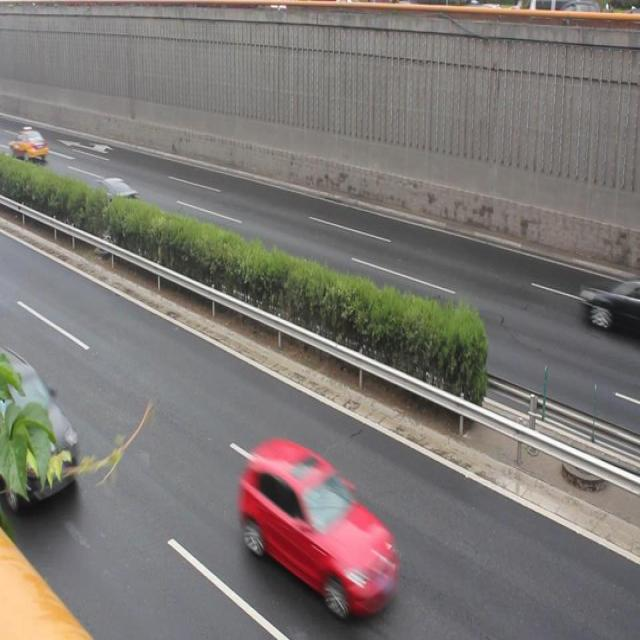car: (236, 436, 397, 602), (1, 348, 86, 507), (576, 260, 640, 342), (86, 172, 134, 216)
